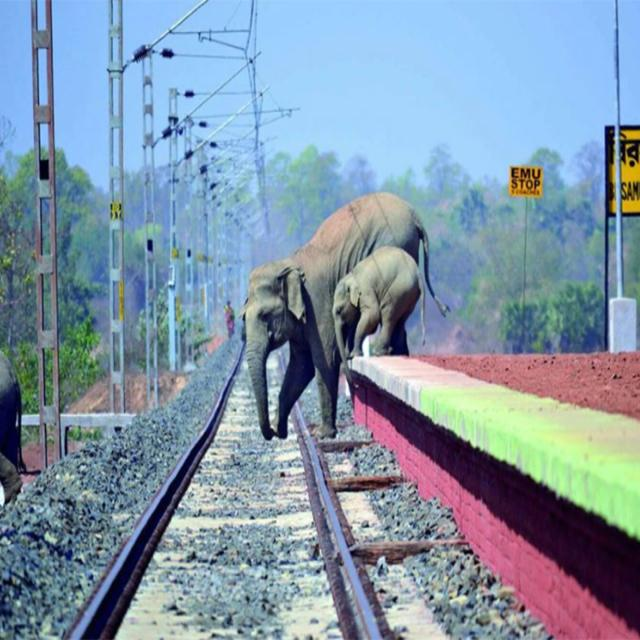Elephant: (245, 184, 450, 458), (333, 239, 434, 395)
